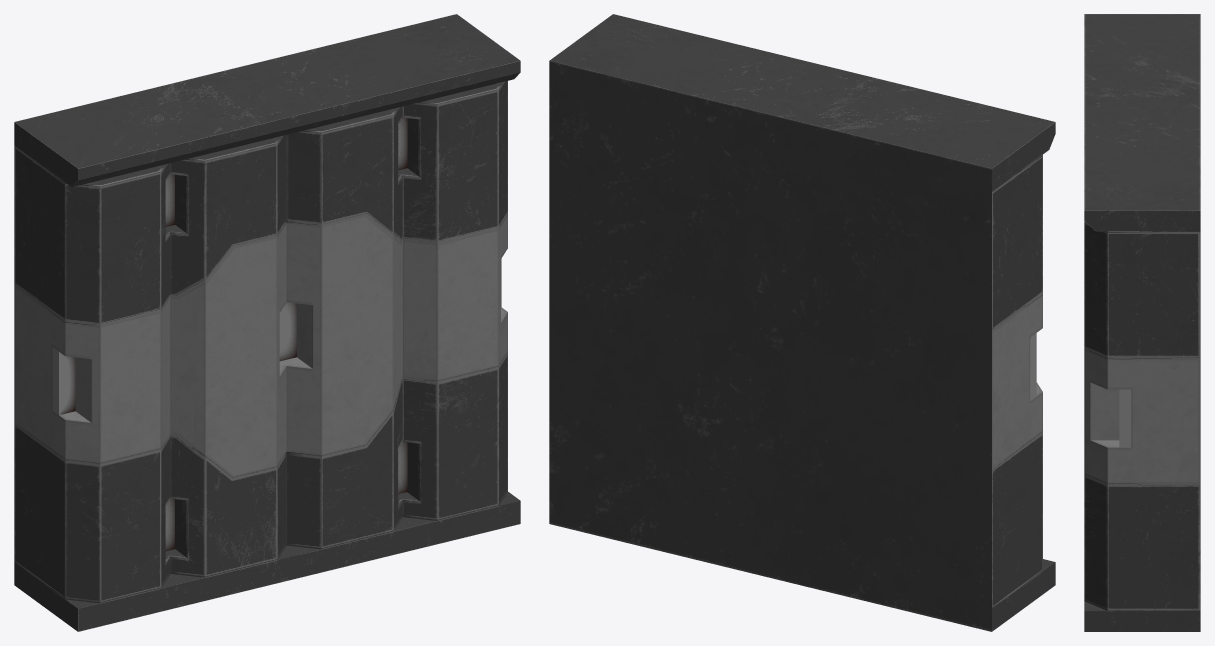
Rendered from tile_wall11.FBX.
3 renders of one model, left to right at view 1: azimuth 30°, elevation 25°; view 2: azimuth 150°, elevation 25°; view 3: azimuth 270°, elevation 25°, orthographic. The views are drawn at different scales.
Visible parts, largest first — view 1: tile_wall11; view 2: tile_wall11; view 3: tile_wall11.
Part boxes in pixels (left/top/right/bottom): tile_wall11: left=14, top=14, right=520, bottom=631; tile_wall11: left=549, top=14, right=1055, bottom=631; tile_wall11: left=1084, top=14, right=1200, bottom=631.
Bounding box in the file's own units: 200 × 200 × 50.
1 material, 1 textured.
